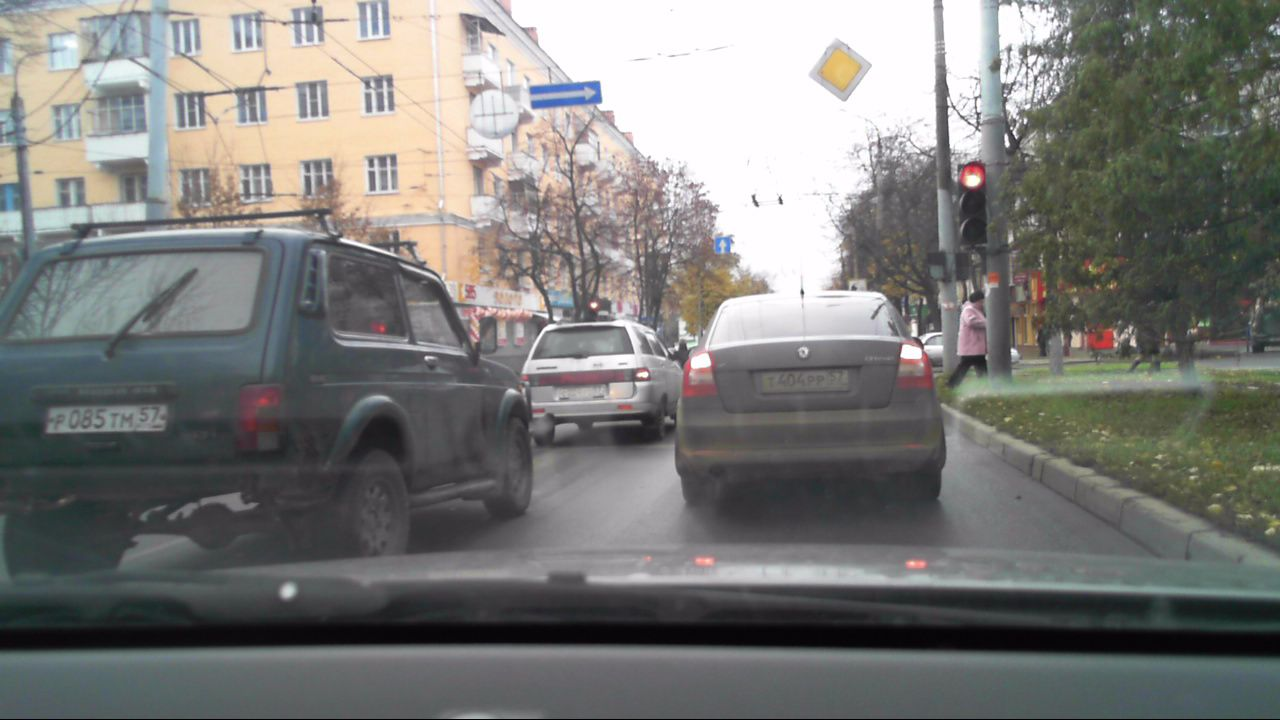One-Way Traffic: (530, 80, 601, 108)
